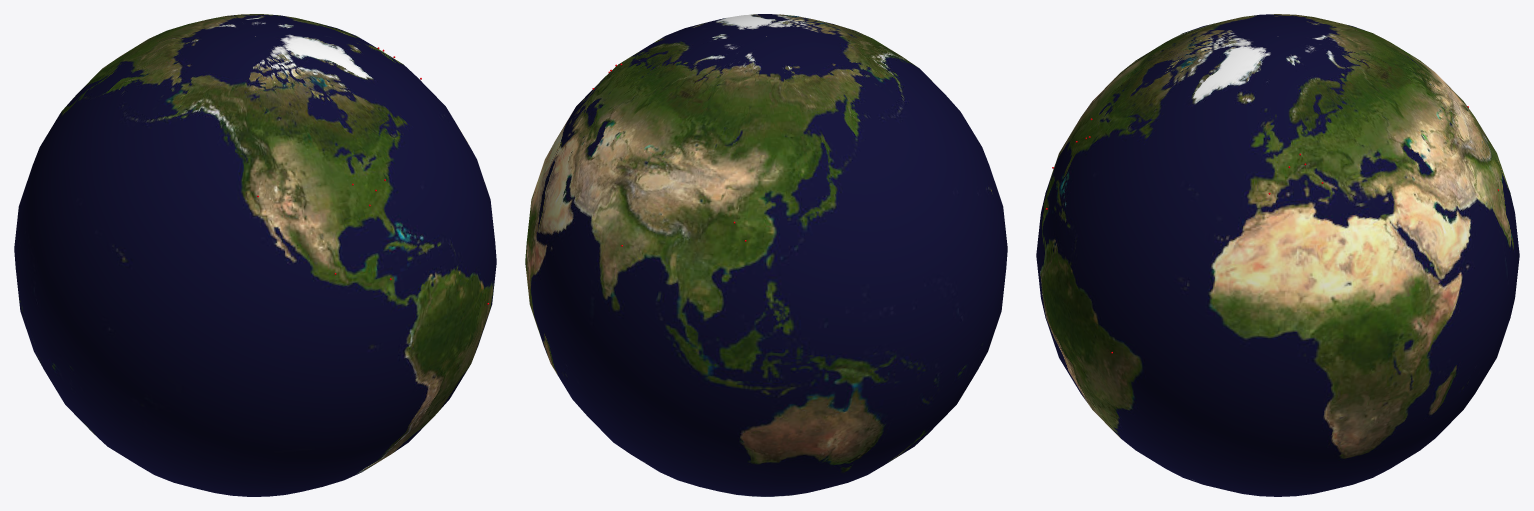
Rendered from globeLocationsG.glb.
3 renders of one model, left to right at view 1: azimuth 30°, elevation 25°; view 2: azimuth 150°, elevation 25°; view 3: azimuth 270°, elevation 25°, orthographic.
Parts seen in each view (by area): view 1: Sphere; view 2: Sphere; view 3: Sphere.
Part boxes in pixels (left/top/right/bottom): Sphere: left=14, top=14, right=496, bottom=496; Sphere: left=525, top=14, right=1007, bottom=496; Sphere: left=1036, top=14, right=1519, bottom=496.
Size of the model in its own units: 10.74 by 10.74 by 10.74.
2 materials, 1 textured.
